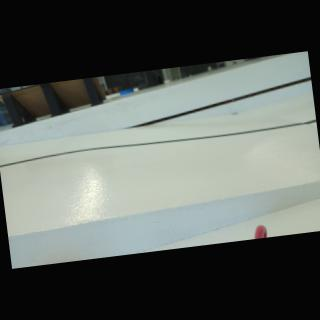teletubby: (255, 225, 267, 239)
